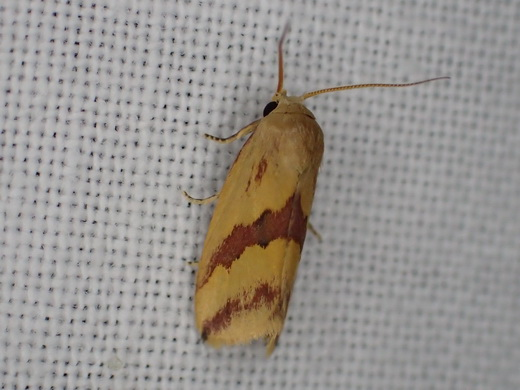Noctuidae: (179, 34, 454, 359)
